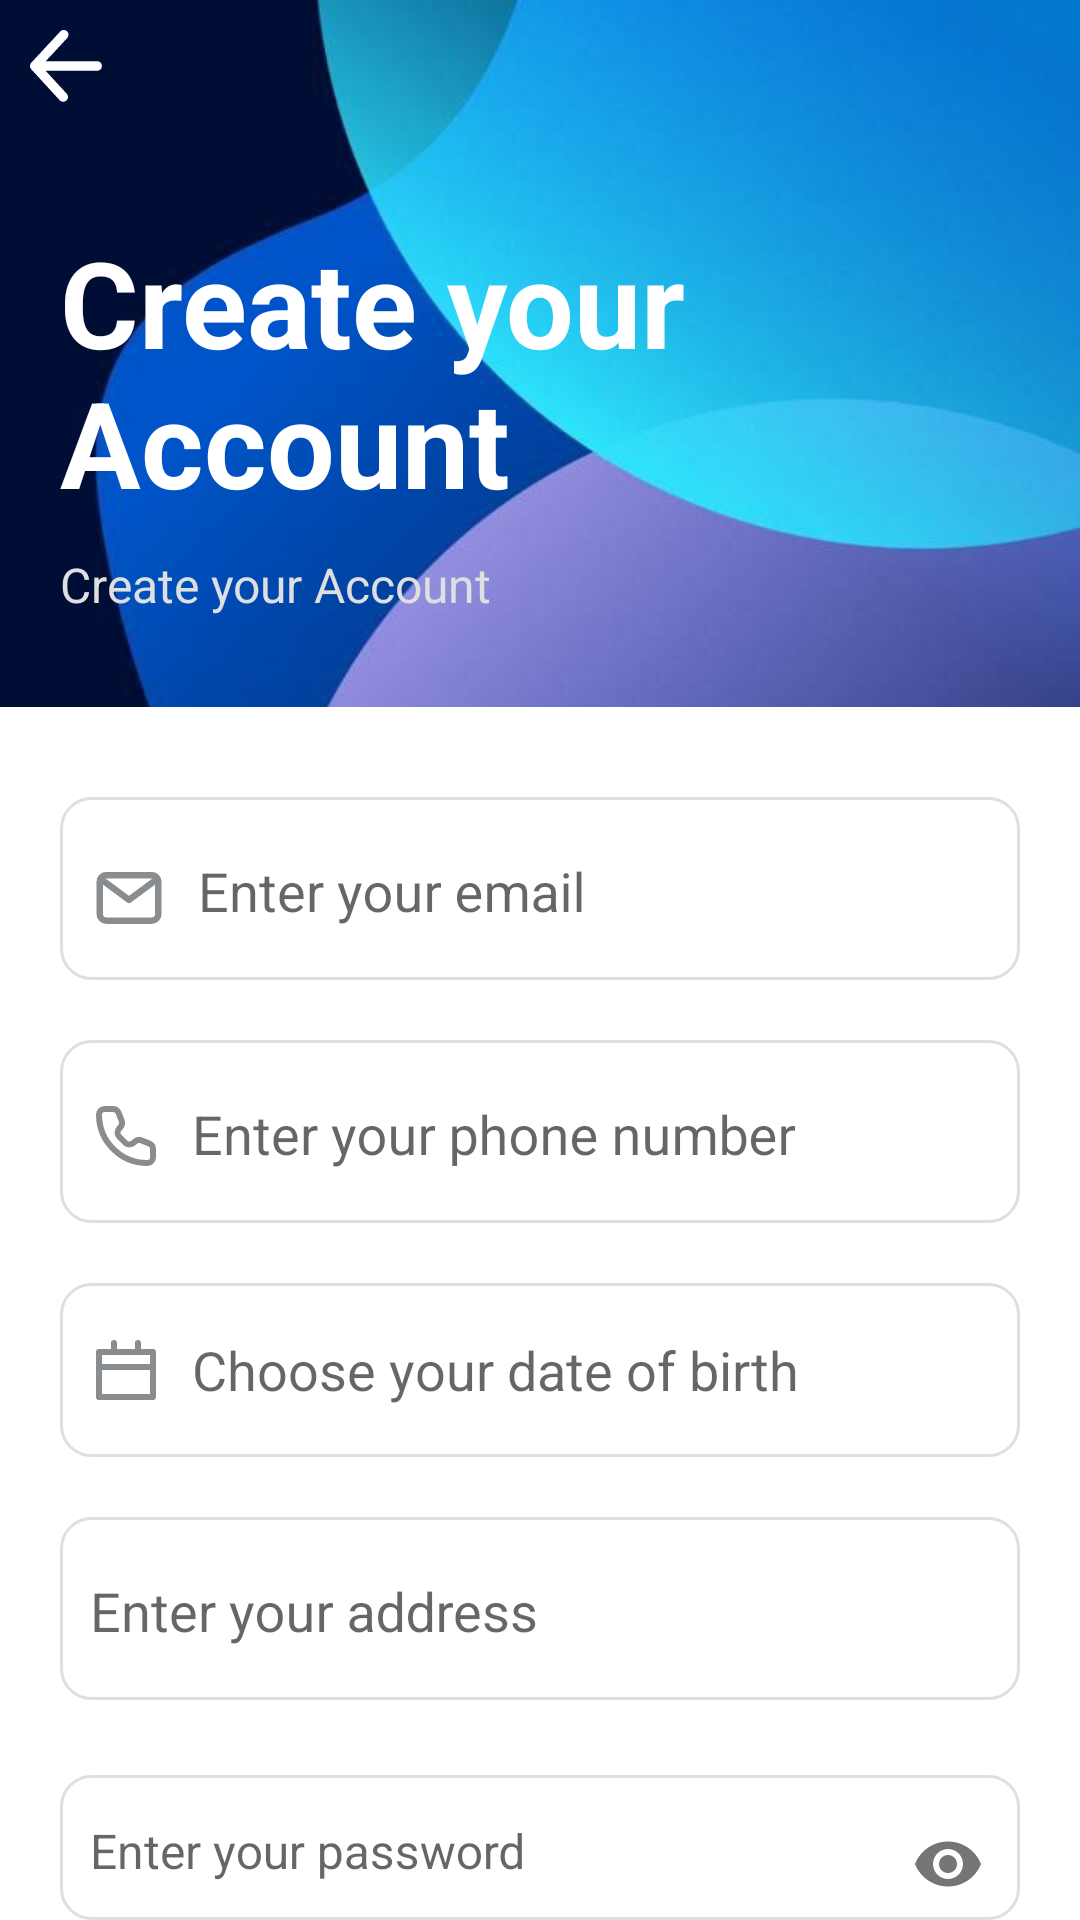

Screen size 1080×1920. Icon name, then its center in pixels as point (x, y):
back: point (66, 66)
